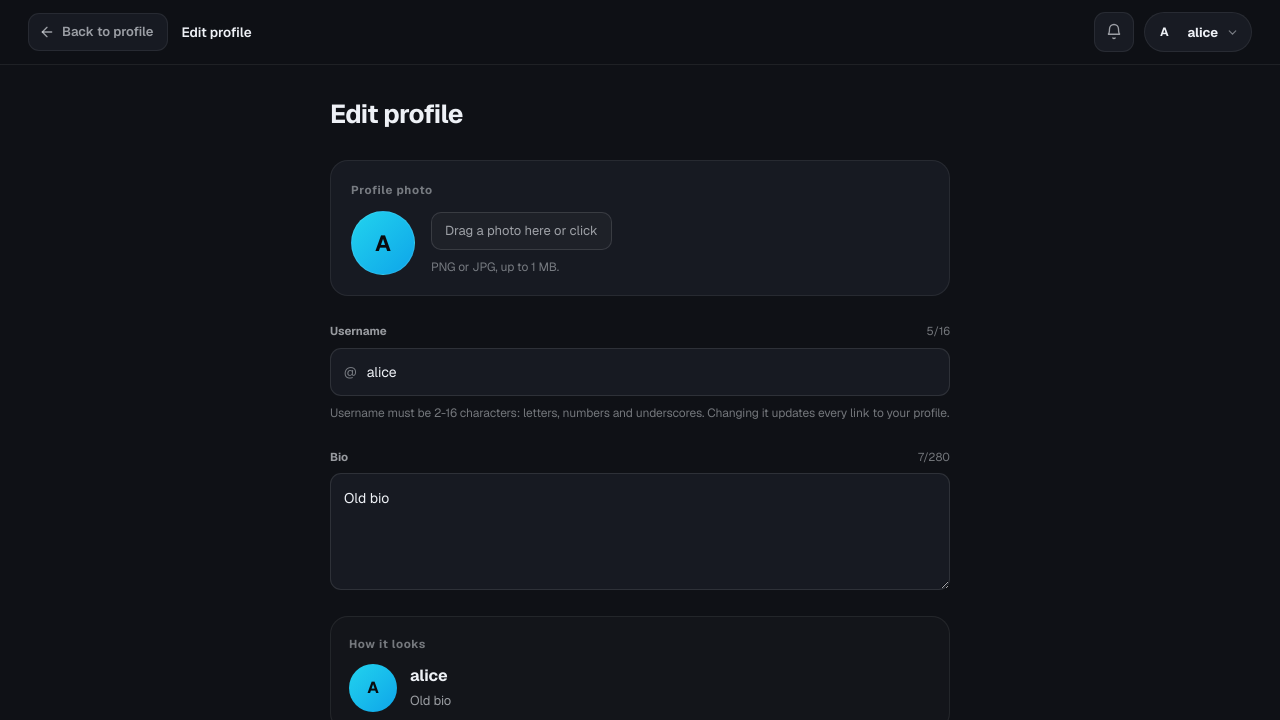
Test case: ProfileEditForm › shows an error message if saving fails
Type "!" into the text box showing "Old bio".
click(640, 532); type("!")  # box [330,473,950,590]
(page scrolled)
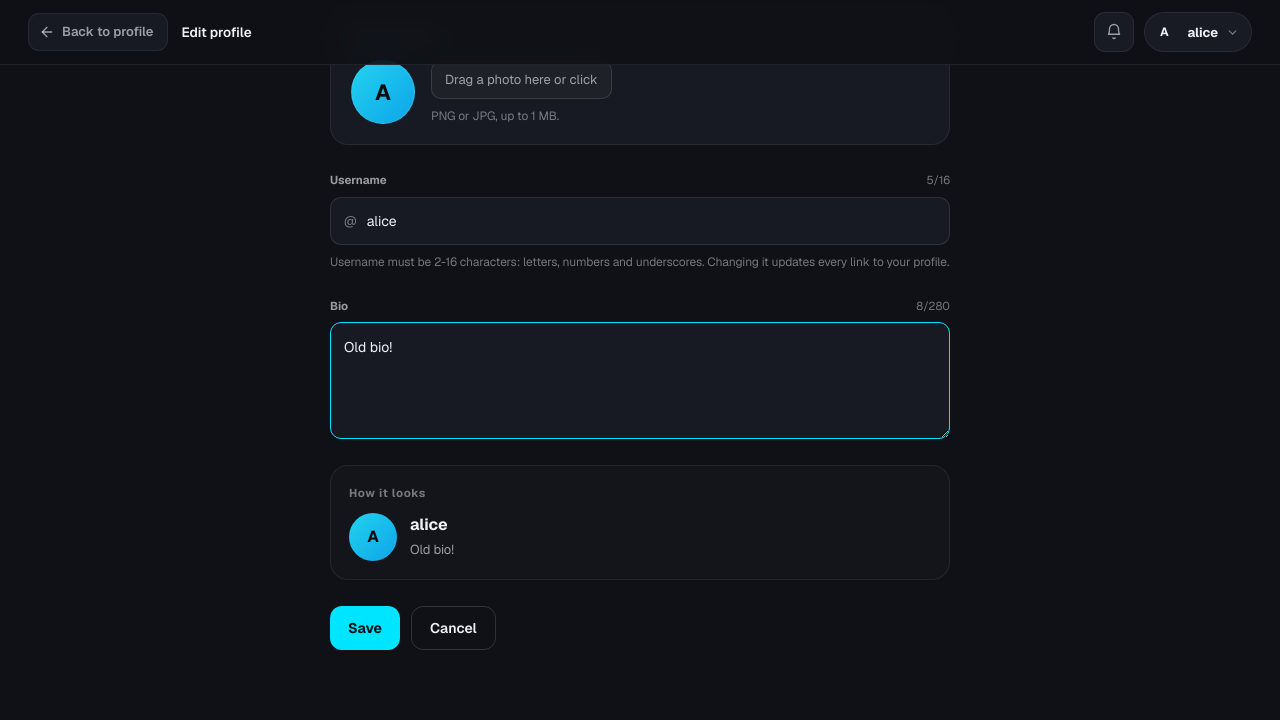
Click the button "Save".
click(365, 628)  # box [330,606,400,650]
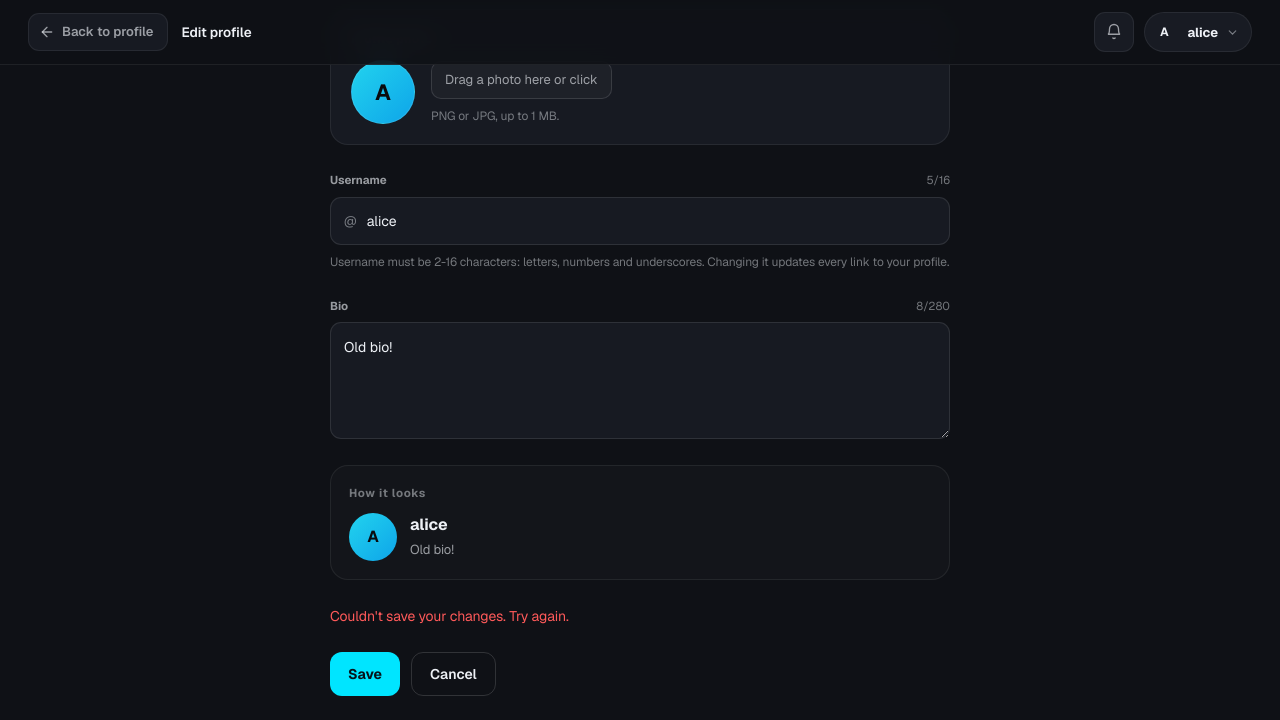
expect the text "Couldn't save your changes. Try again." is shown: met, box [330,607,569,625]
